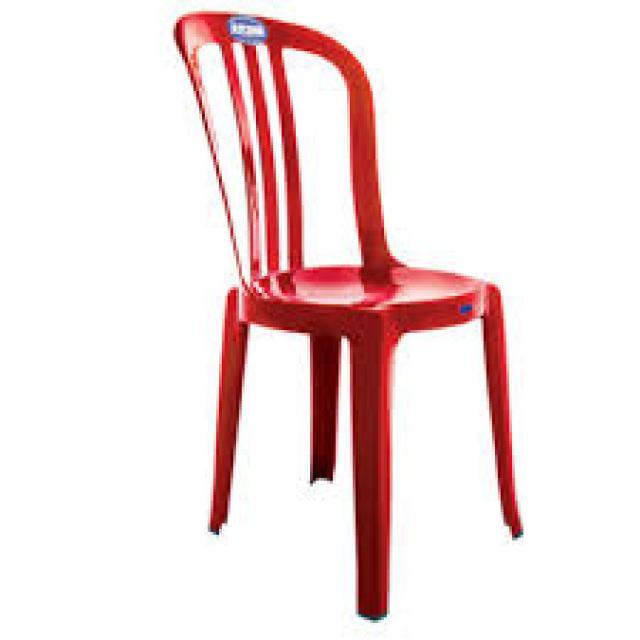chair: (135, 0, 568, 640)
